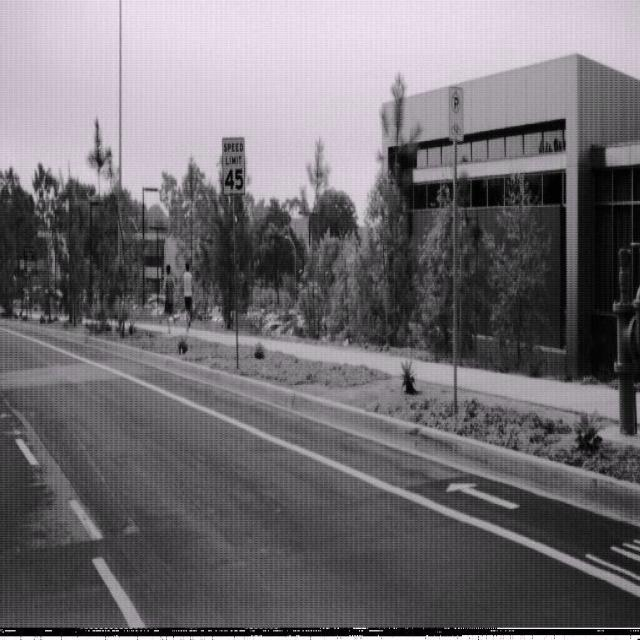speedLimit45: (220, 135, 246, 195)
